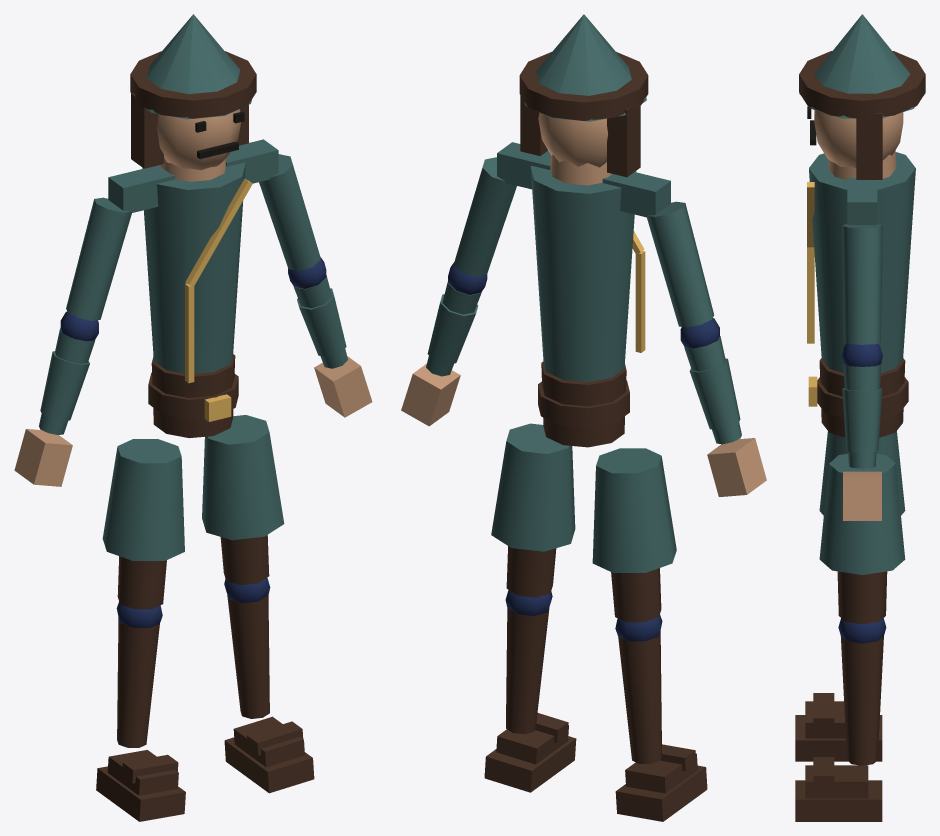
The model's file is mongol-body.glb.
3 renders of one model, left to right at view 1: azimuth 30°, elevation 25°; view 2: azimuth 150°, elevation 25°; view 3: azimuth 270°, elevation 25°, orthographic. The views are drawn at different scales.
Visible parts, largest first — view 1: SplitDeelSkirt (×2), FittedTorso, Cap, UpperArm-1, Shin-1, Shin1, FurBand, UpperArm1, ShoulderLink (×2), Waist, Face, Hand-1 (+21 smaller); view 2: FittedTorso, SplitDeelSkirt (×2), Cap, UpperArm-1, Shin-1, Shin1, FurBand, UpperArm1, Waist, ShoulderLink (×2), CapFlap (×2), Face (+17 smaller); view 3: FittedTorso, SplitDeelSkirt (×2), UpperArm1, Shin1, Cap, FurBand, Face, Sandal1, Thigh1, Bracer1, Waist, Hand1 (+15 smaller).
Boxes of the visible parts, bbox=[...] form: SplitDeelSkirt (×2): bbox=[102, 415, 284, 560]; FittedTorso: bbox=[142, 162, 245, 373]; Cap: bbox=[145, 14, 251, 119]; UpperArm-1: bbox=[66, 197, 131, 320]; Shin-1: bbox=[117, 617, 159, 747]; Shin1: bbox=[227, 595, 269, 718]; FurBand: bbox=[130, 51, 256, 118]; UpperArm1: bbox=[259, 154, 320, 271]; ShoulderLink (×2): bbox=[108, 139, 278, 213]; Waist: bbox=[151, 354, 235, 438]; Face: bbox=[157, 109, 240, 170]; Hand-1: bbox=[14, 429, 72, 486]; FittedTorso: bbox=[530, 165, 636, 381]; SplitDeelSkirt (×2): bbox=[491, 423, 676, 572]; Cap: bbox=[524, 14, 646, 121]; UpperArm-1: bbox=[647, 201, 713, 327]; Shin-1: bbox=[618, 630, 661, 763]; Shin1: bbox=[506, 607, 549, 734]; FurBand: bbox=[519, 52, 648, 120]; UpperArm1: bbox=[453, 157, 516, 276]; Waist: bbox=[541, 361, 626, 447]; ShoulderLink (×2): bbox=[497, 142, 670, 217]; CapFlap (×2): bbox=[520, 95, 640, 177]; Face: bbox=[538, 112, 607, 167]; FittedTorso: bbox=[809, 152, 915, 372]; SplitDeelSkirt (×2): bbox=[819, 431, 905, 574]; UpperArm1: bbox=[842, 224, 882, 344]; Shin1: bbox=[840, 636, 883, 765]; Cap: bbox=[799, 14, 925, 118]; FurBand: bbox=[799, 51, 925, 118]; Face: bbox=[814, 110, 903, 167]; Sandal1: bbox=[795, 780, 882, 821]; Thigh1: bbox=[837, 571, 887, 624]; Bracer1: bbox=[842, 388, 882, 452]; Waist: bbox=[819, 358, 905, 437]; Hand1: bbox=[843, 471, 881, 520].
Size of the model in its own units: 0.9158 by 1.98 by 0.3041.
